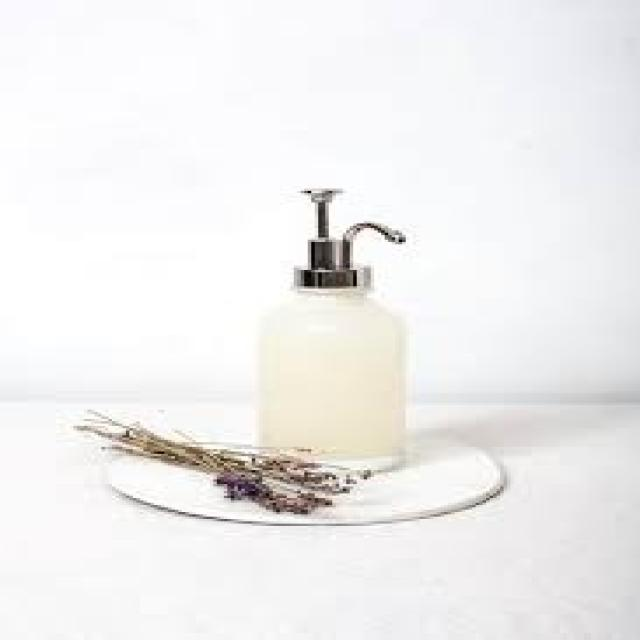liquid soap: (255, 186, 420, 471)
